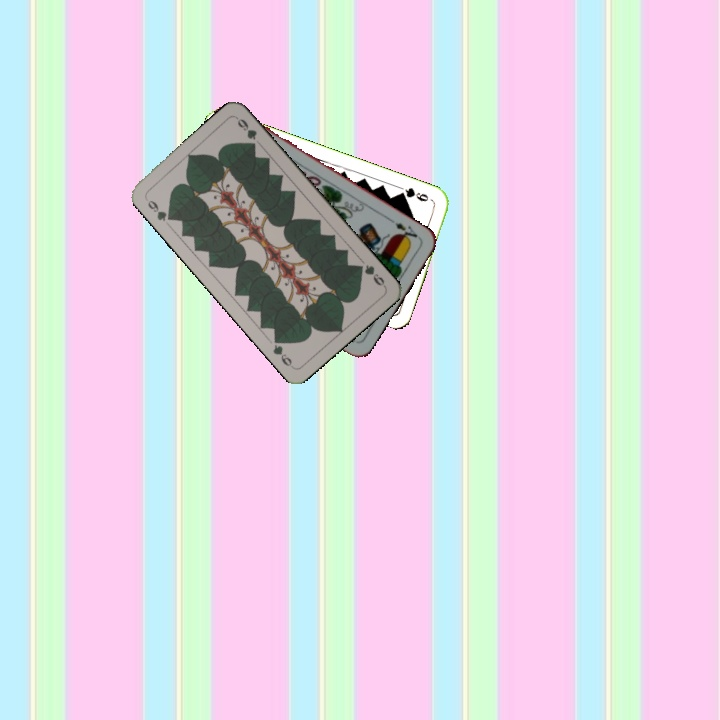EA: (391, 218, 423, 245)
G9: (141, 194, 177, 224), (353, 260, 388, 290), (395, 184, 431, 204)
